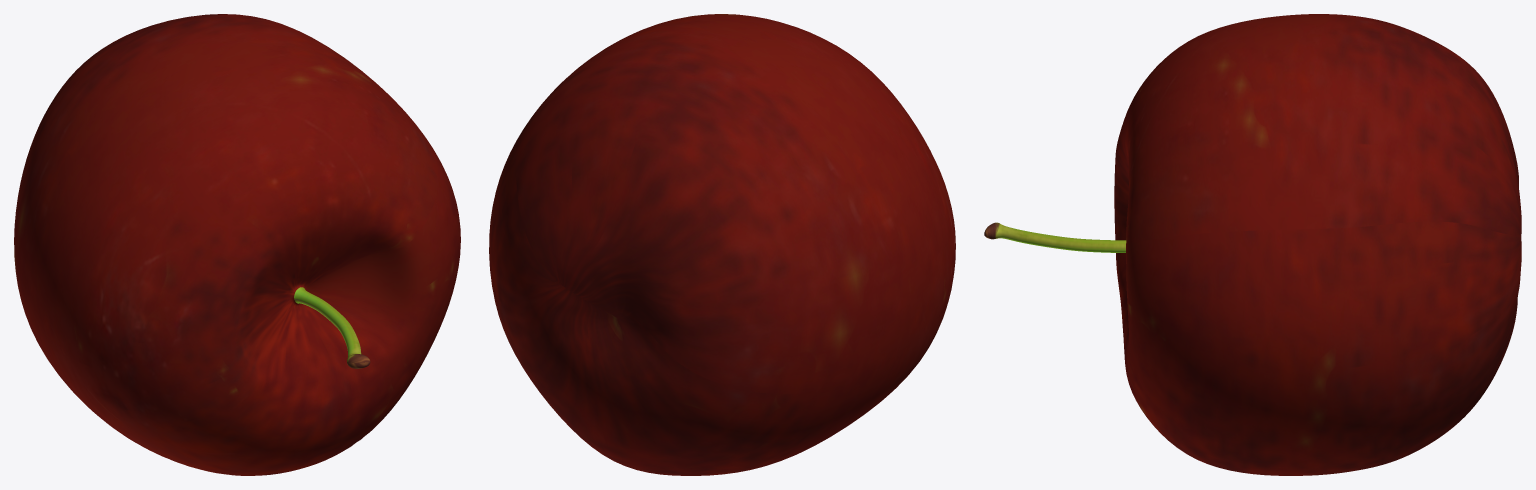
The model's file is 10162_Apple_v01_l3.obj.
3 renders of one model, left to right at view 1: azimuth 30°, elevation 25°; view 2: azimuth 150°, elevation 25°; view 3: azimuth 270°, elevation 25°, orthographic. The views are drawn at different scales.
Visible parts, largest first — view 1: 10162_Apple_v1; view 2: 10162_Apple_v1; view 3: 10162_Apple_v1.
Boxes of the visible parts, left/top/right/bottom form: 10162_Apple_v1: left=14, top=14, right=460, bottom=475; 10162_Apple_v1: left=489, top=14, right=955, bottom=475; 10162_Apple_v1: left=984, top=14, right=1521, bottom=475.
Bounding box in the file's own units: 163 × 163 × 190.
Materials: 1 (1 with a texture image).
